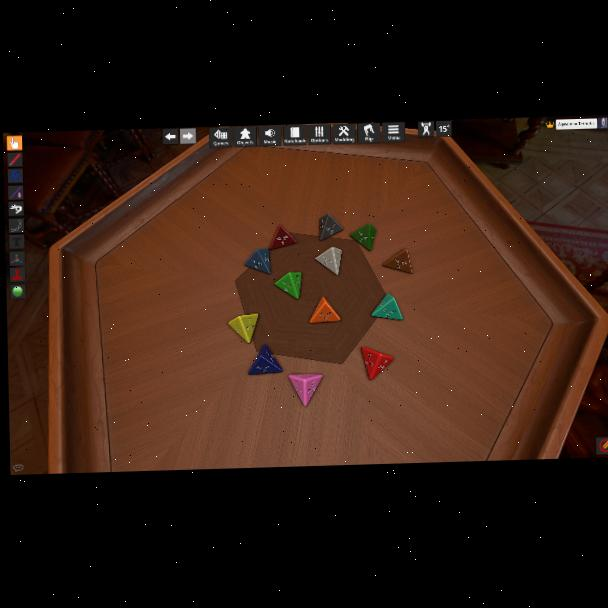d4: (288, 372, 323, 407), (362, 347, 395, 382), (247, 345, 283, 376), (228, 313, 259, 343), (371, 294, 403, 323), (310, 296, 340, 324), (315, 247, 343, 276), (269, 224, 298, 251), (274, 272, 301, 300), (243, 248, 271, 275), (350, 223, 375, 252), (317, 214, 343, 241), (383, 248, 411, 273)
